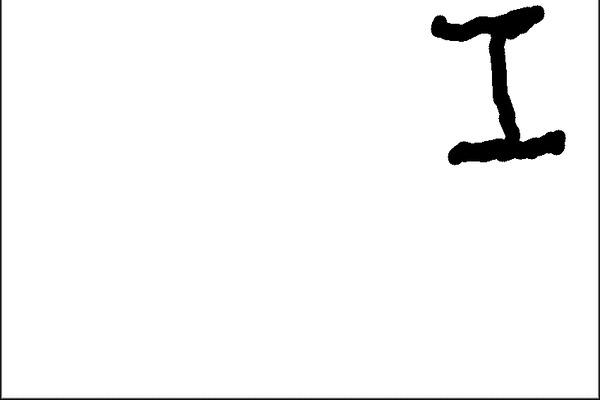i: (423, 0, 577, 177)
